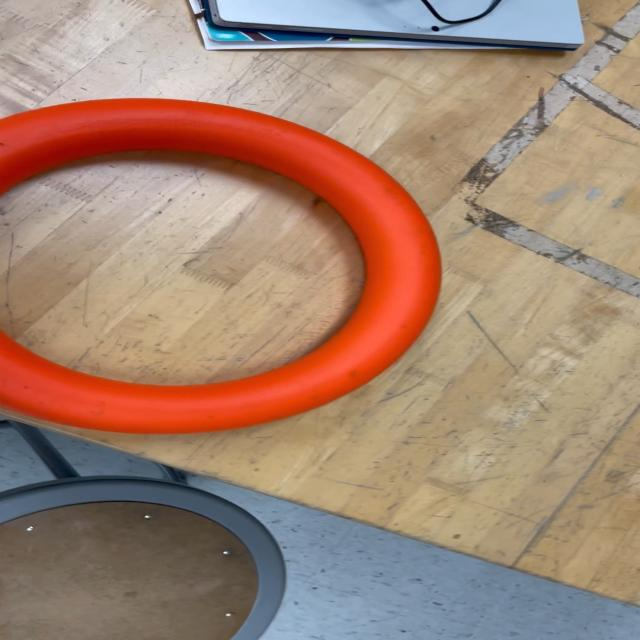note: (0, 95, 443, 434)
